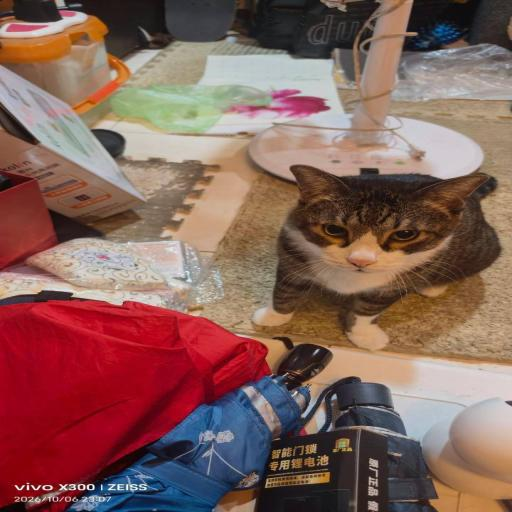cat: (281, 174, 498, 335)
